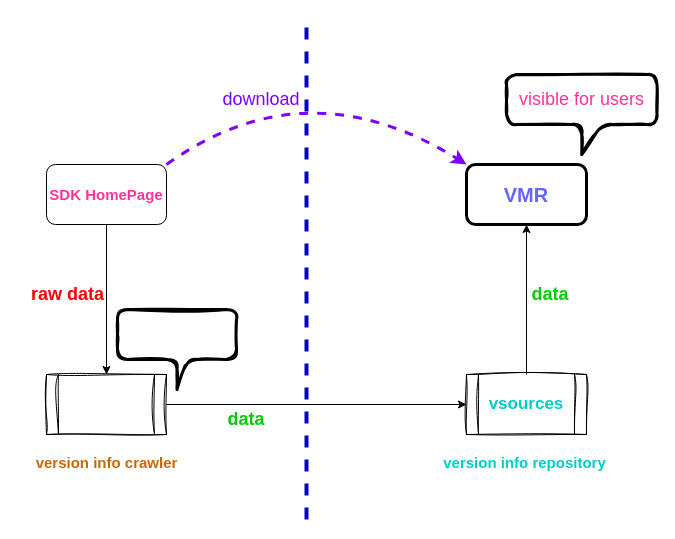
Image size: 675x539. Some labels were removed from this diagram. The box of each missing label's shape, as (x1, y1, x2, y2) in pixels:
remote server: (116, 308, 238, 390)
vcollector: (46, 374, 166, 434)
